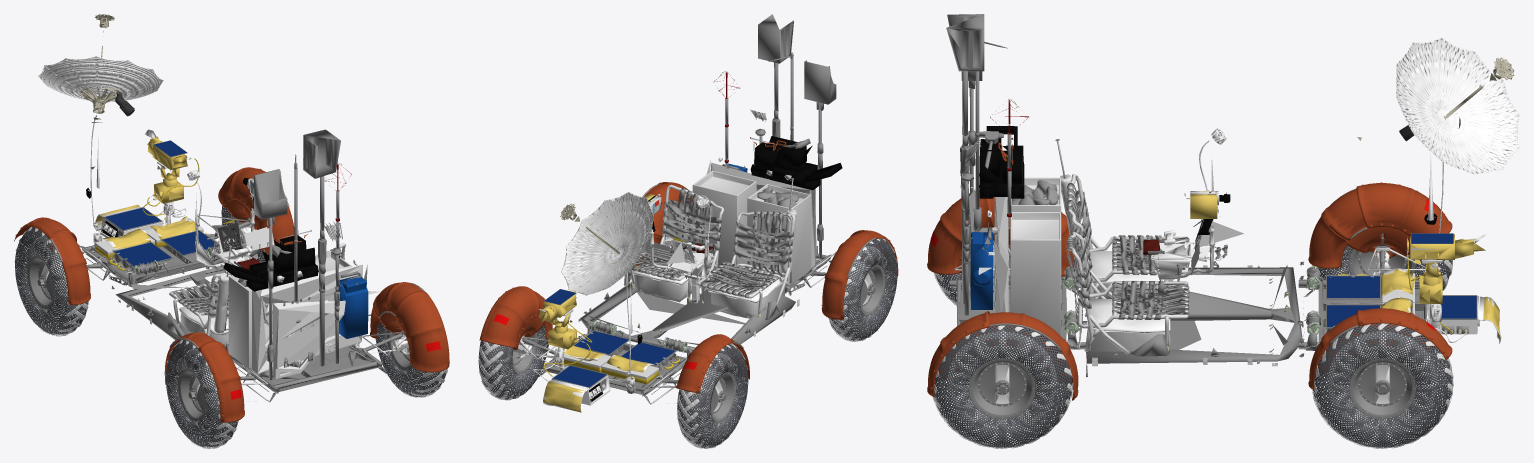
The model's file is lrv-home.glb.
3 views of the same model, side by side, from view 1: azimuth 30°, elevation 25°; view 2: azimuth 150°, elevation 25°; view 3: azimuth 270°, elevation 25° (orthographic). The views are drawn at different scales.
Visible parts, largest first — view 1: LRV Static, Wheel - Front Left, Wheel - Rear Left, Wheel - Rear Right; view 2: LRV Static, Wheel - Front Left, Wheel - Rear Left, Wheel - Front Right; view 3: LRV Static, Wheel - Front Right, Wheel - Rear Right, Wheel - Front Left.
Part boxes in pixels (x1=…): LRV Static: x1=14, y1=14, x2=449, y2=422; Wheel - Front Left: x1=14, y1=227, x2=88, y2=336; Wheel - Rear Left: x1=165, y1=340, x2=238, y2=448; Wheel - Rear Right: x1=375, y1=320, x2=447, y2=397; LRV Static: x1=479, y1=14, x2=898, y2=412; Wheel - Front Left: x1=677, y1=343, x2=748, y2=448; Wheel - Rear Left: x1=828, y1=238, x2=897, y2=341; Wheel - Front Right: x1=478, y1=324, x2=548, y2=400; LRV Static: x1=927, y1=14, x2=1519, y2=400; Wheel - Front Right: x1=1312, y1=323, x2=1453, y2=448; Wheel - Rear Right: x1=933, y1=325, x2=1073, y2=448; Wheel - Front Left: x1=1312, y1=233, x2=1452, y2=307.
Size of the model in its own units: 1.97 by 2.3 by 3.41.
Materials: 41 (1 with a texture image).
